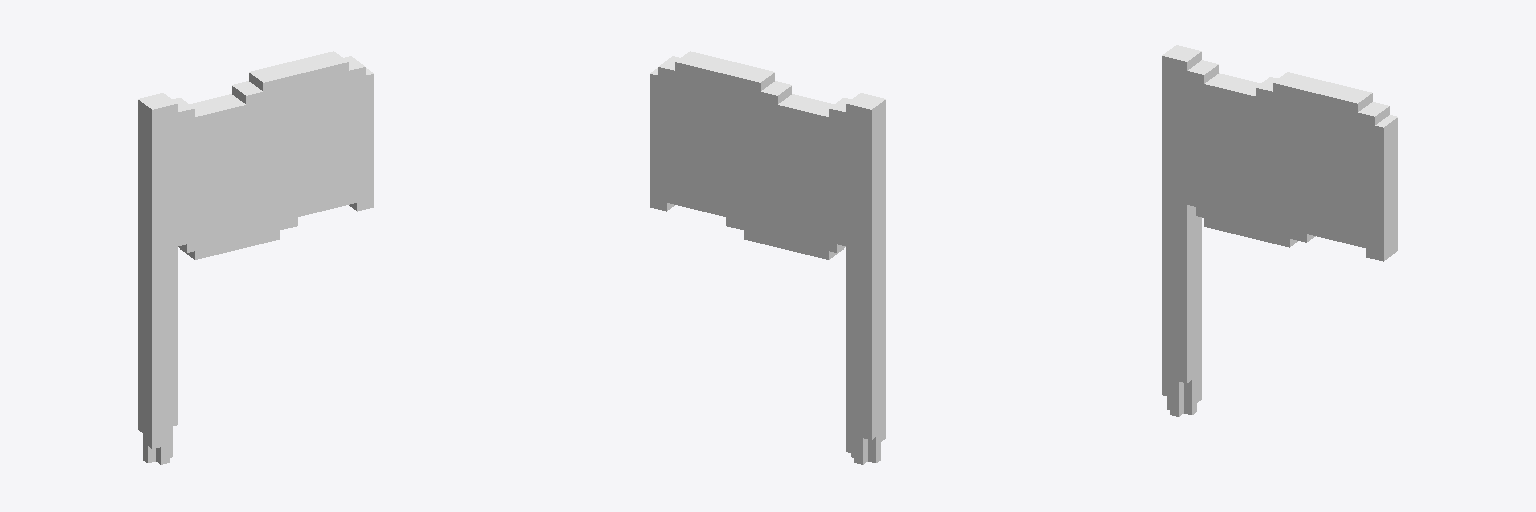
File: flag3.obj
The picture shows the model from 3 angles: view 1: azimuth 30°, elevation 25°; view 2: azimuth 150°, elevation 25°; view 3: azimuth 330°, elevation 25°; orthographic projection.
Parts seen in each view (by area): view 1: object 1; view 2: object 1; view 3: object 1.
Part boxes in pixels (bbox=[...]): object 1: bbox=[138, 51, 373, 464]; object 1: bbox=[650, 51, 885, 464]; object 1: bbox=[1162, 45, 1397, 416].
Bounding box in the file's own units: 2.6 × 4 × 0.3.